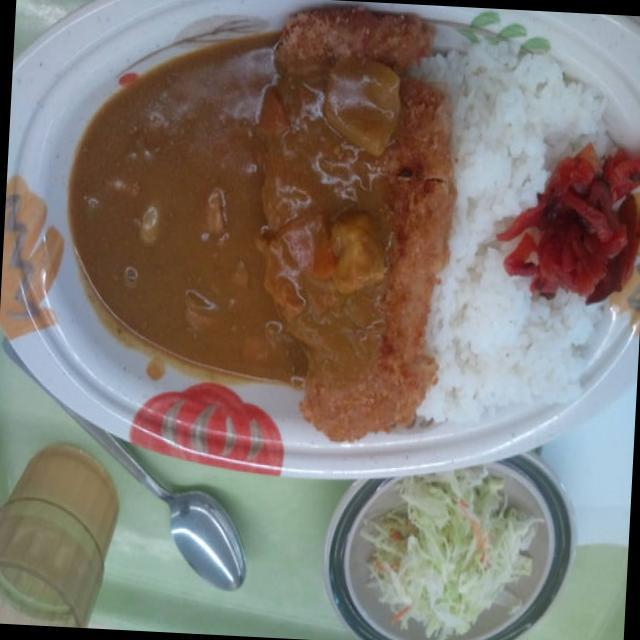Beef Curry: (60, 37, 419, 414)
Green Salad: (360, 464, 548, 640)
